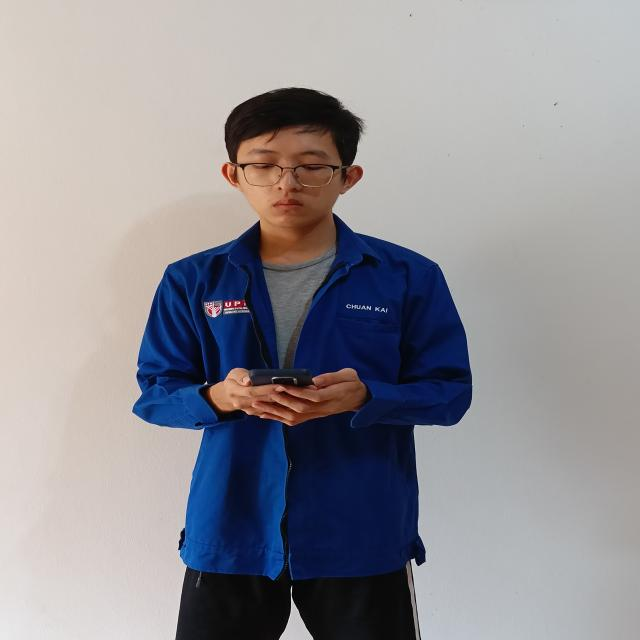person_with_labcoat: (134, 88, 472, 640)
